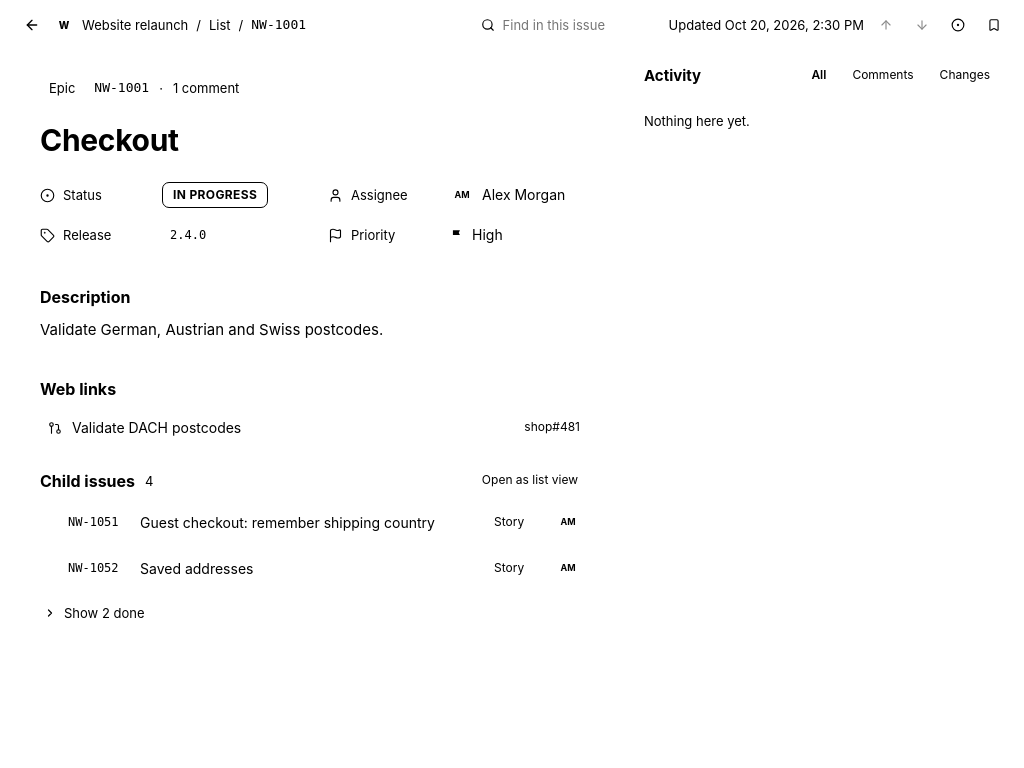
IssueView › children › shows and hides the done children from the toggle
This screenshot has width=1024, height=768.
Click the button "Show 2 done".
click(104, 613)  # box left=40, top=595, right=588, bottom=631
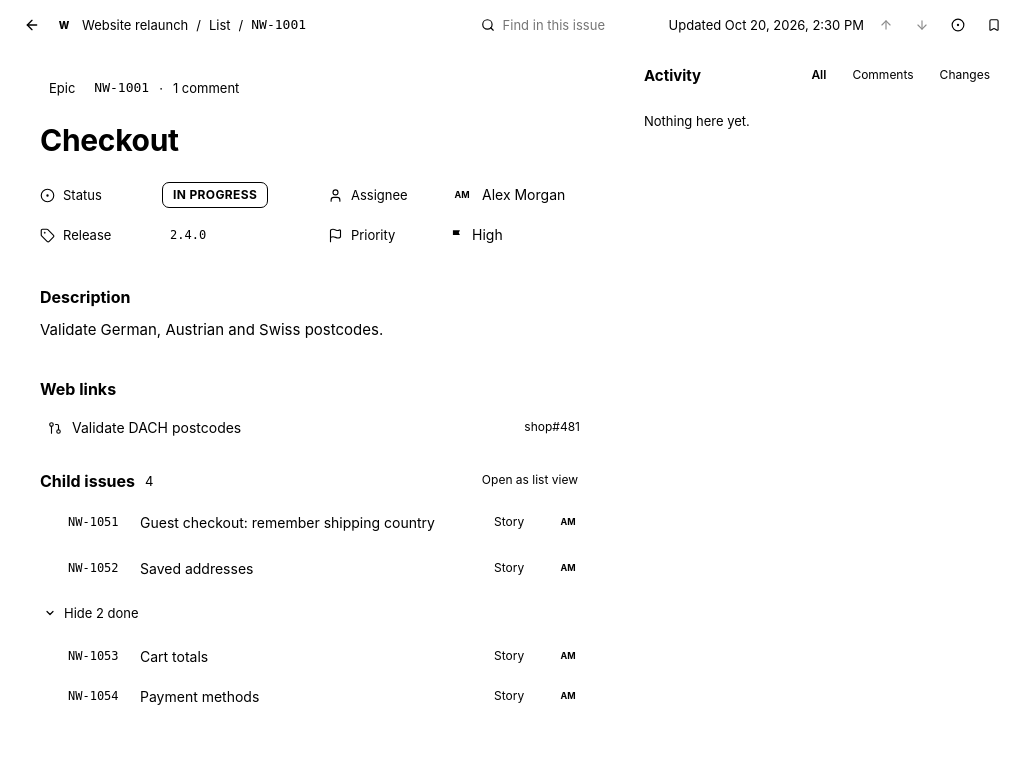
Expected: the button "NW-1053 Cart totals Story AM" is shown, left=40, top=637, right=588, bottom=677
Expected: the button "NW-1054 Payment methods Story AM" is shown, left=40, top=677, right=588, bottom=717
Click the button "Hide 2 done".
click(101, 613)  # box left=40, top=595, right=588, bottom=631
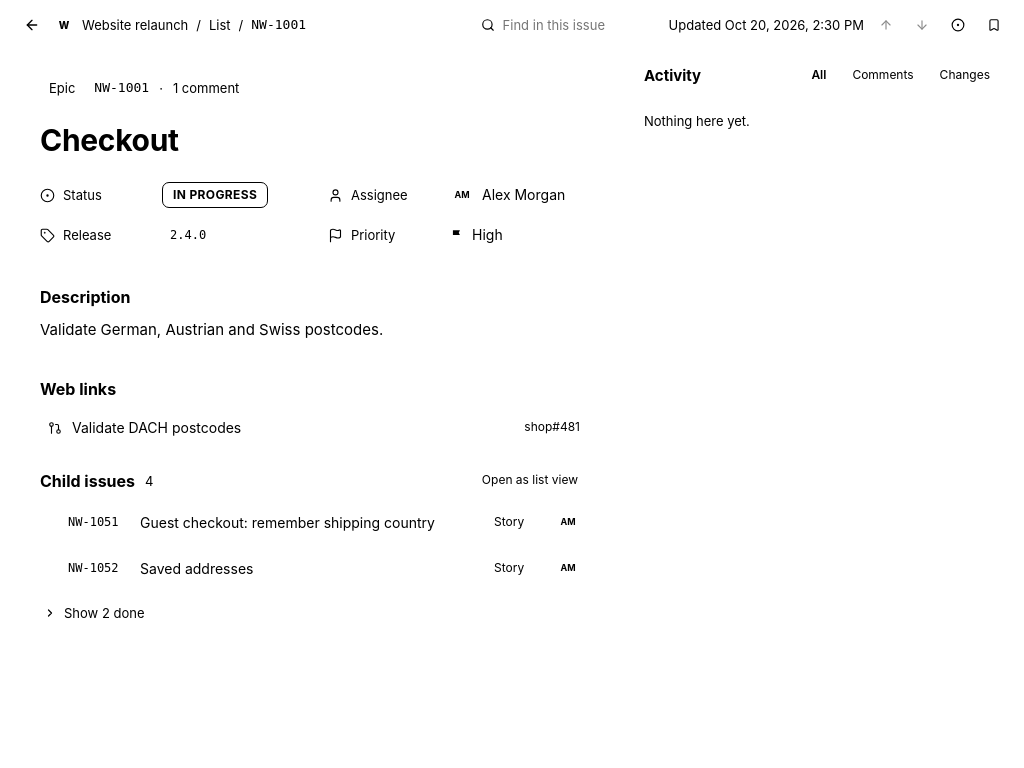
Expected: the button "NW-1053" is gone
